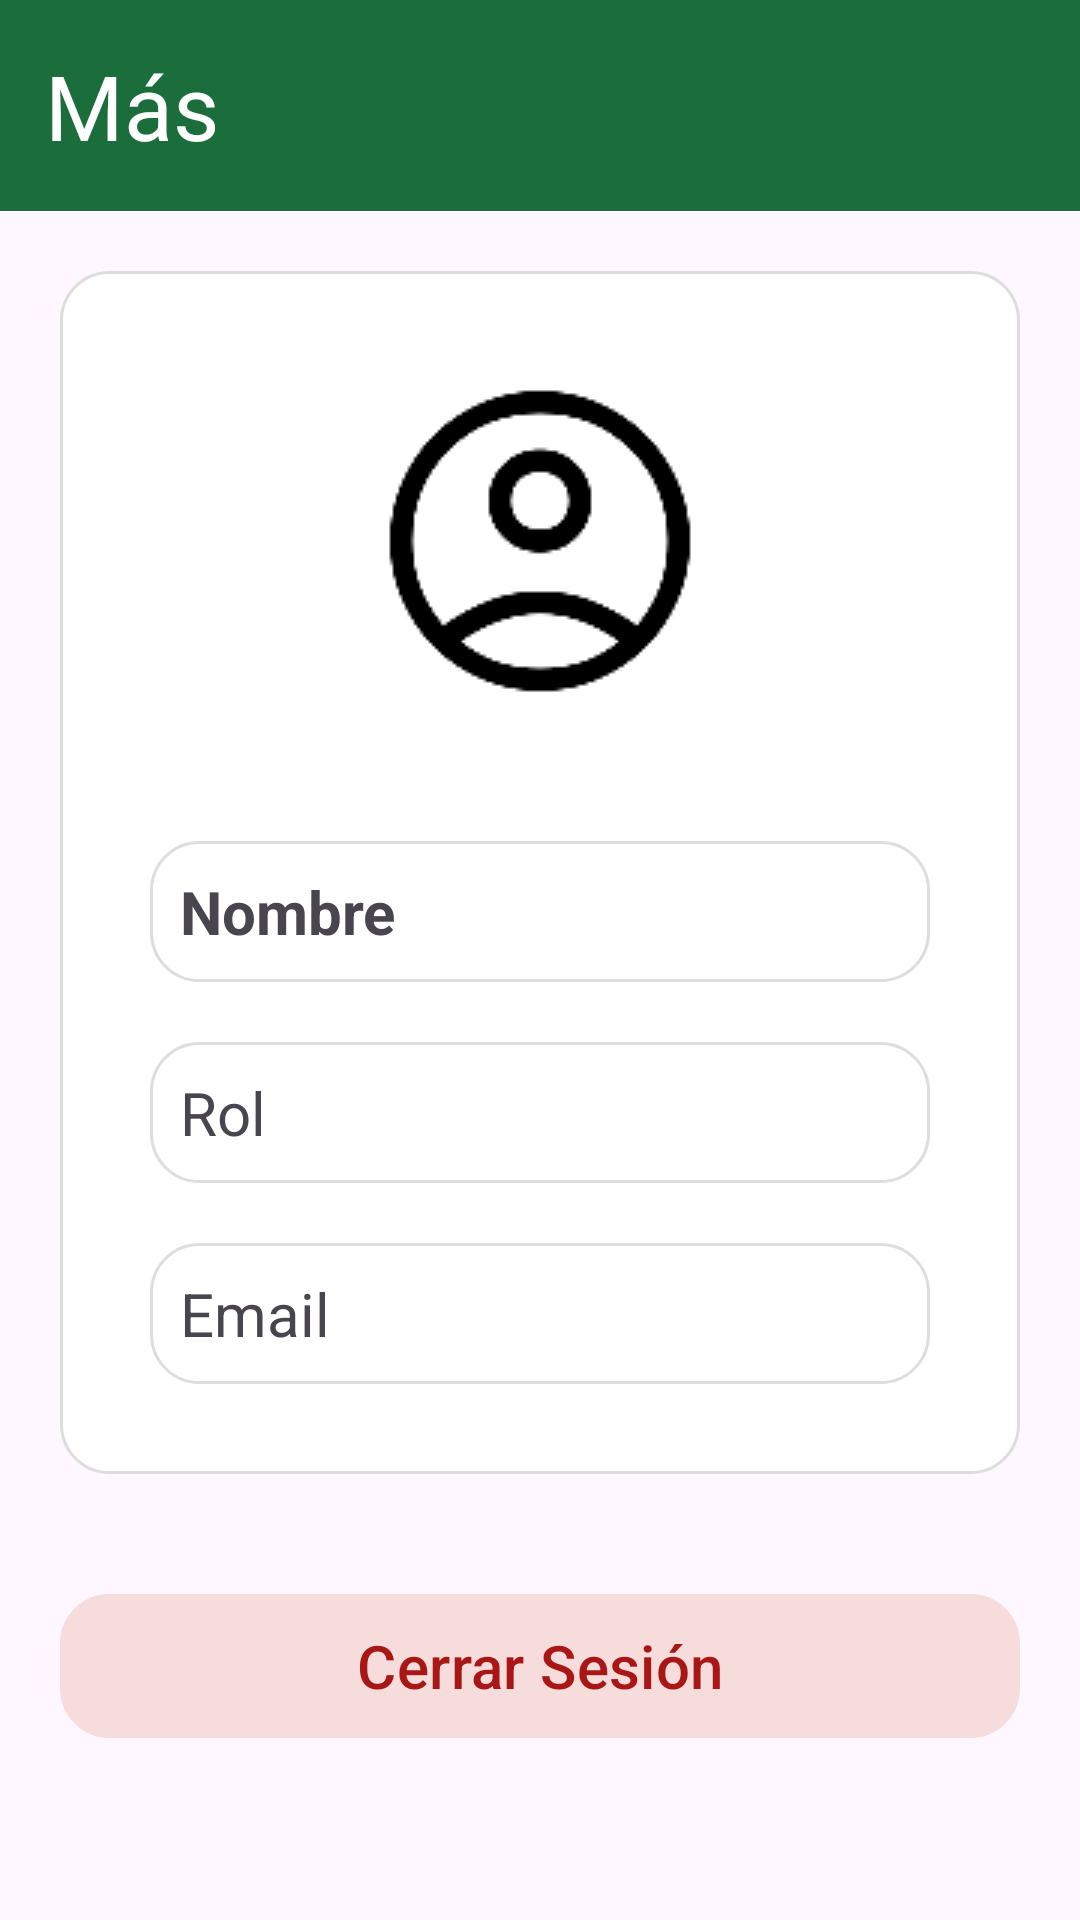

Icon bounding boxes for this 1080 × 1920 phone screenshot, format (x1, y1, x2, y2):
account: (389, 390, 691, 692)
